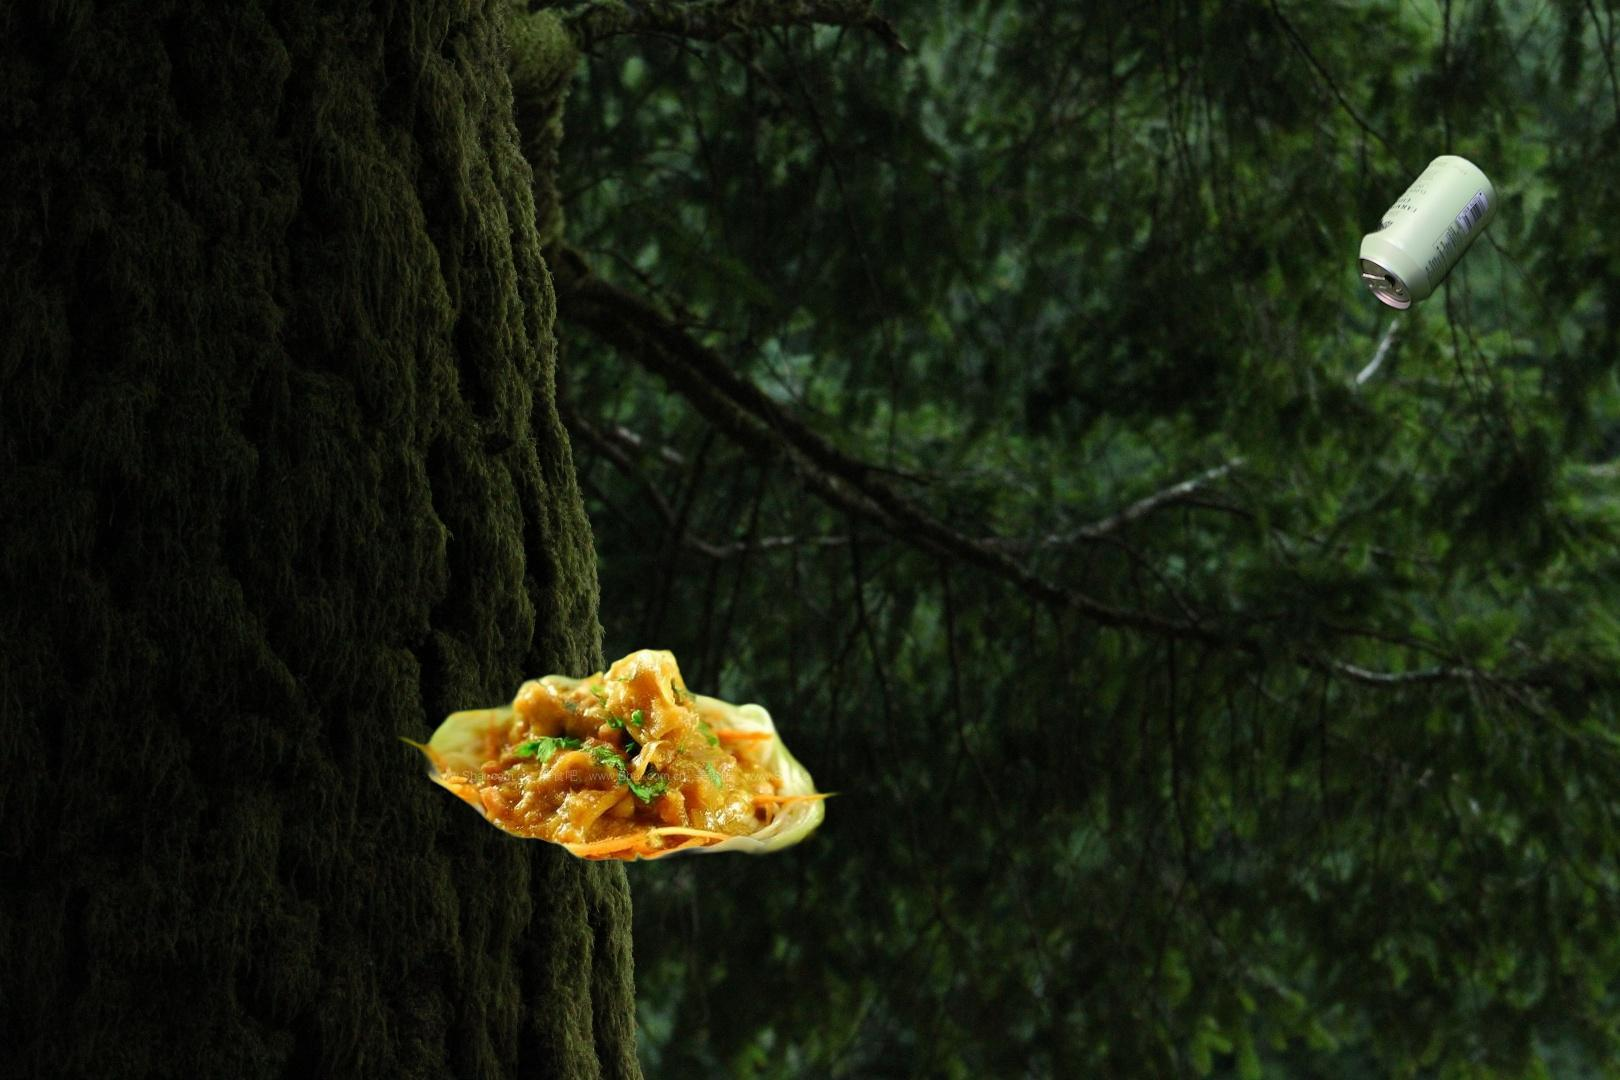biological: (391, 646, 864, 929)
metal-cans: (1351, 148, 1503, 316)
